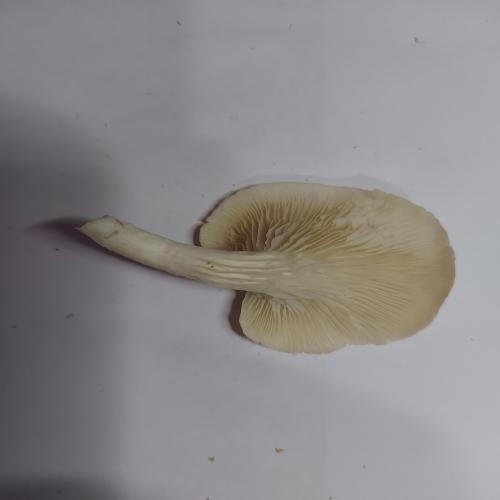Oyster Mushroom: (73, 180, 457, 355)
